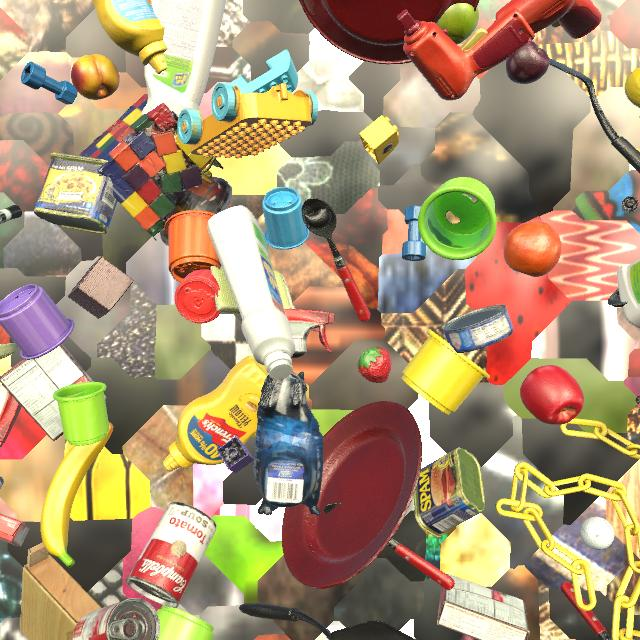ycb_005_tomato_soup_can: (126, 502, 217, 608), (72, 598, 160, 640)
ycb_006_mustard_bottle: (163, 356, 269, 471), (92, 0, 168, 74)
ycb_007_tuna_fish_can: (442, 305, 513, 353), (0, 476, 4, 489)
ycb_008_pudding_box: (0, 344, 106, 442), (437, 574, 530, 640)
ycb_009_gelatin_box: (0, 514, 30, 547)
ycb_010_potted_meat_can: (34, 153, 117, 234), (414, 448, 485, 538)
ycb_011_banana: (40, 421, 113, 567)
ycb_012_strawberry: (358, 346, 391, 383)
ycb_013_apple: (520, 365, 584, 425)
ycb_014_lemon: (625, 67, 640, 108)
ycb_015_peach: (71, 54, 120, 100)
ycb_016_pear: (436, 3, 479, 45)
ycb_017_orange: (503, 221, 562, 277)
ycb_018_plum: (506, 41, 550, 84)
